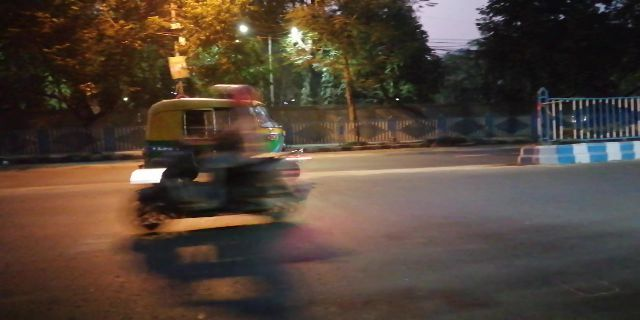Autorickshaw: (145, 100, 284, 146)
Motorbike: (137, 89, 302, 221)
